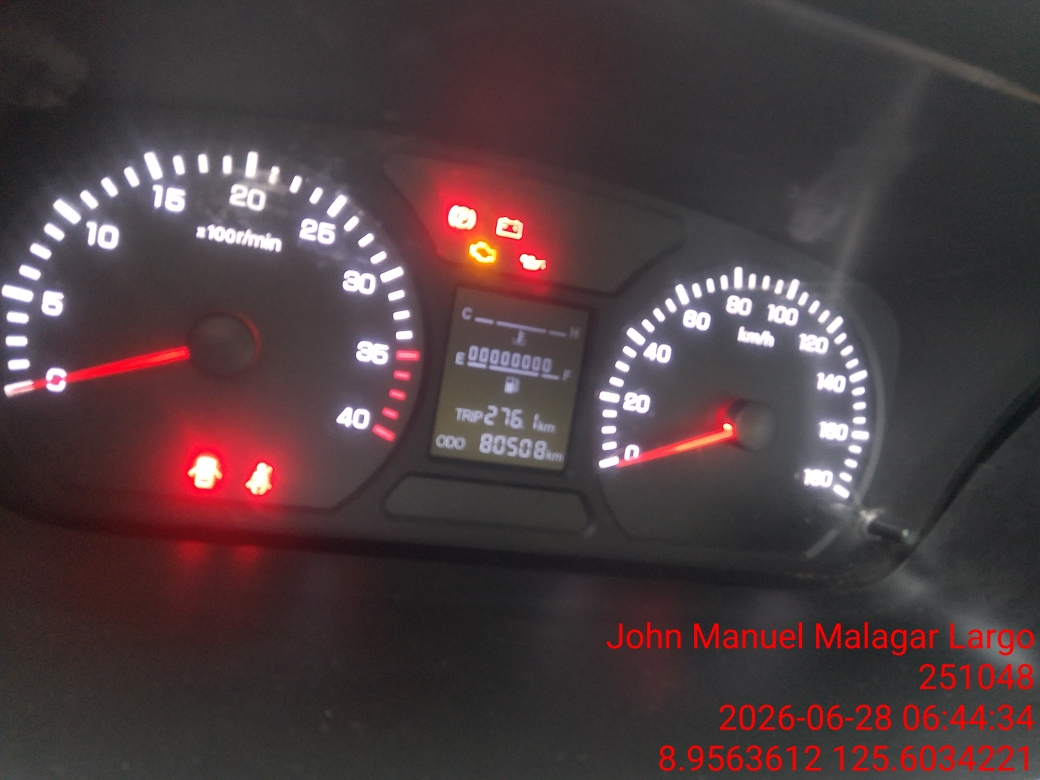grid_pose: (129, 62, 559, 378)
